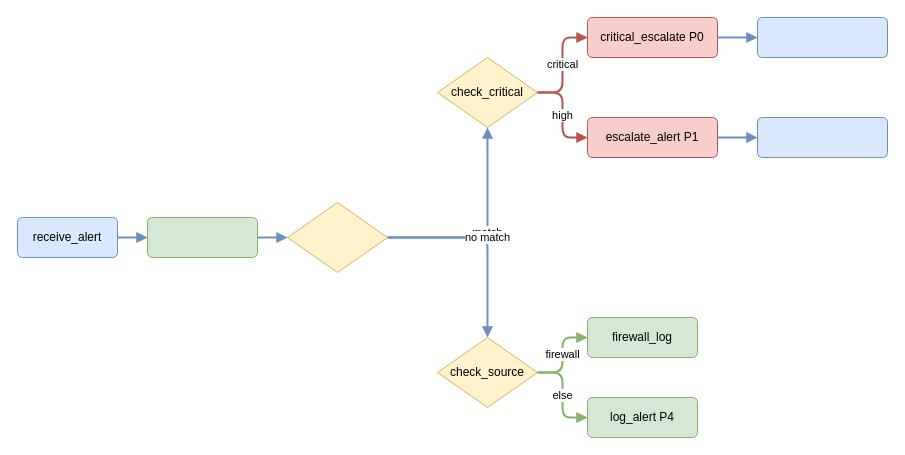
Image size: 905x455. Some labels were removed from this diagram. The centre of each missing label's shape, as x and y in pixels:
check_severity: pixel 337 237
enrich_critical HTTP: pixel 822 37
enrich_high HTTP: pixel 822 137
normalize_alert: pixel 202 237
